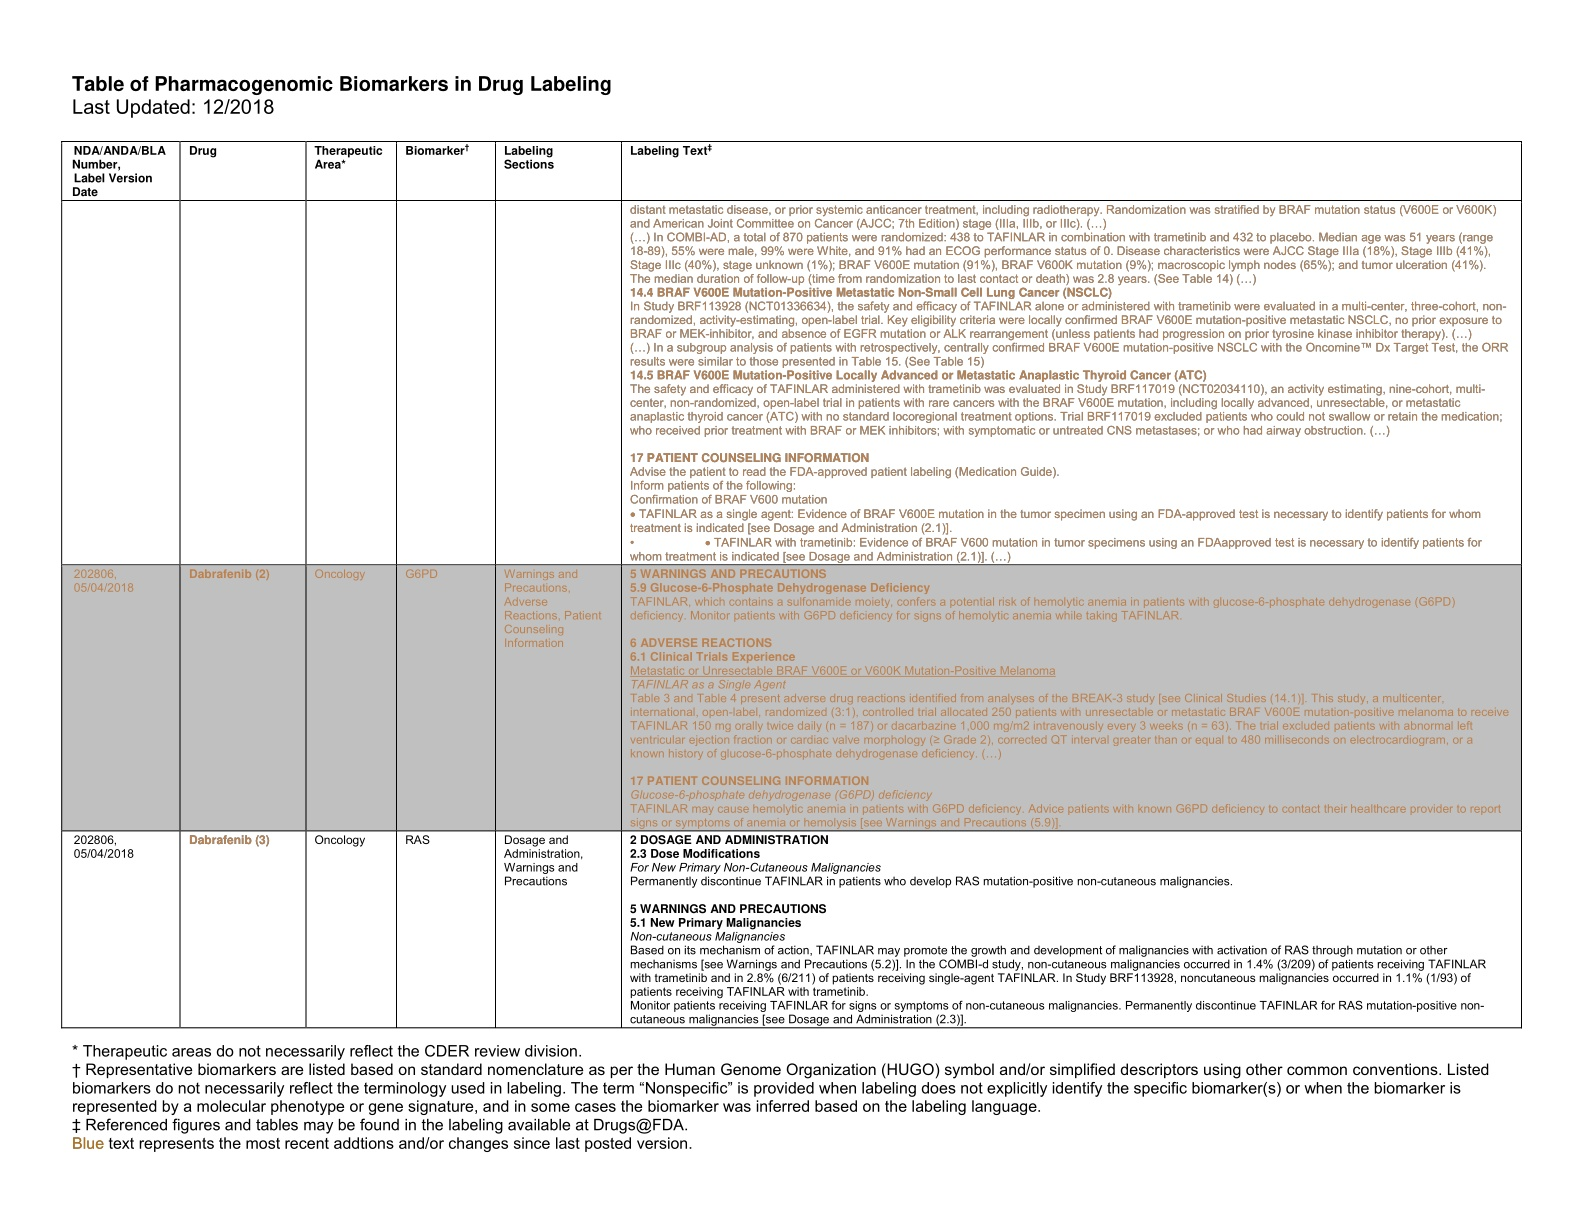full_lined: (60, 140, 1524, 1029)
